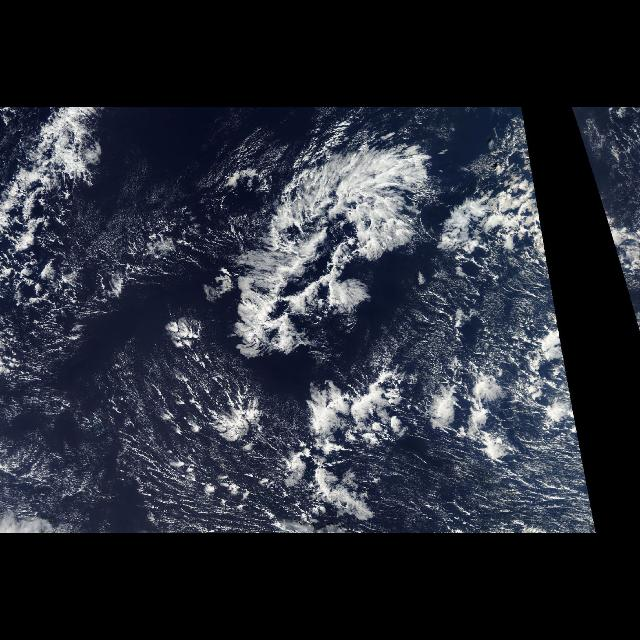Fish: (212, 146, 416, 368)
Gravel: (203, 387, 407, 521)
Sugar: (17, 385, 184, 523), (73, 192, 201, 320), (428, 454, 594, 520), (429, 258, 553, 339)
